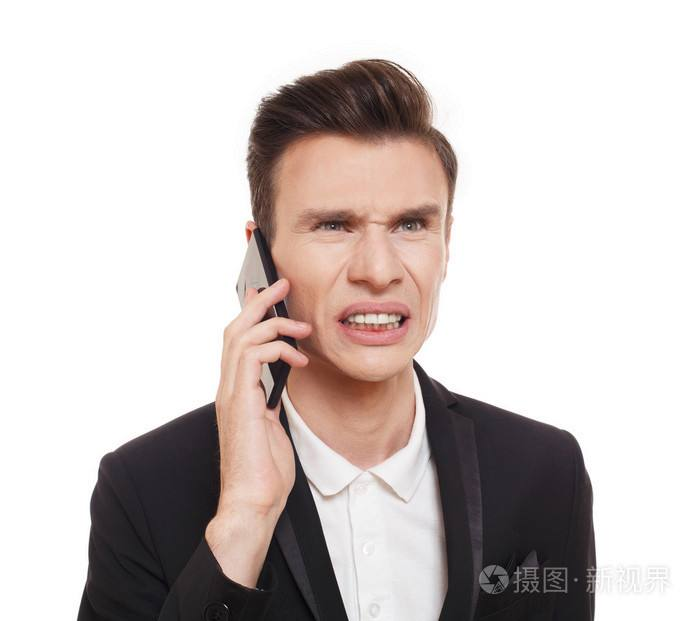calling: (210, 226, 315, 508)
